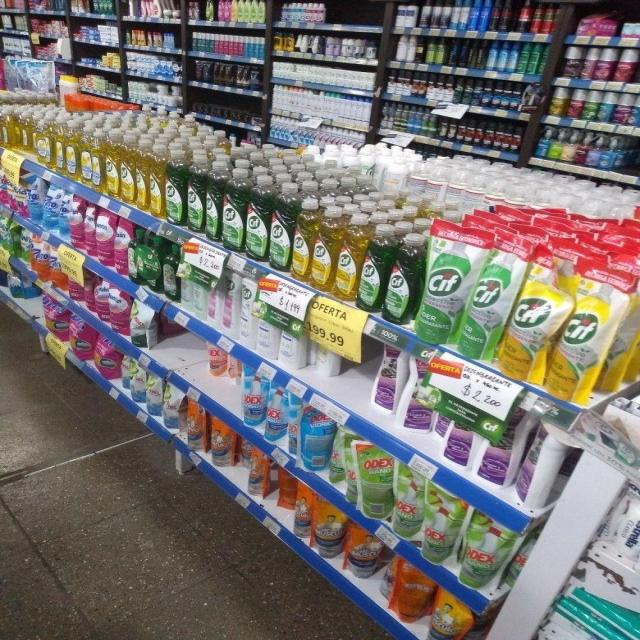cif_conc_bot_amarilla: (336, 211, 360, 302), (313, 203, 336, 293), (293, 196, 313, 282), (150, 136, 164, 218), (120, 130, 135, 204), (136, 133, 149, 212)
cif_conc_botella_verde: (385, 230, 418, 324), (360, 222, 385, 313), (270, 180, 292, 272), (246, 171, 268, 263), (223, 165, 246, 252), (166, 143, 185, 226), (187, 149, 205, 234), (205, 156, 222, 242)
cif_conc_sachet_amarillo: (553, 270, 606, 403), (507, 252, 553, 382)
cif_conc_sachet_verde: (418, 222, 464, 346), (464, 245, 506, 362)
magistral_con_amarillo: (36, 111, 53, 170), (106, 127, 120, 198), (66, 116, 80, 180), (92, 122, 104, 194), (80, 120, 92, 188), (54, 113, 65, 174), (19, 110, 33, 152), (0, 107, 11, 149)
